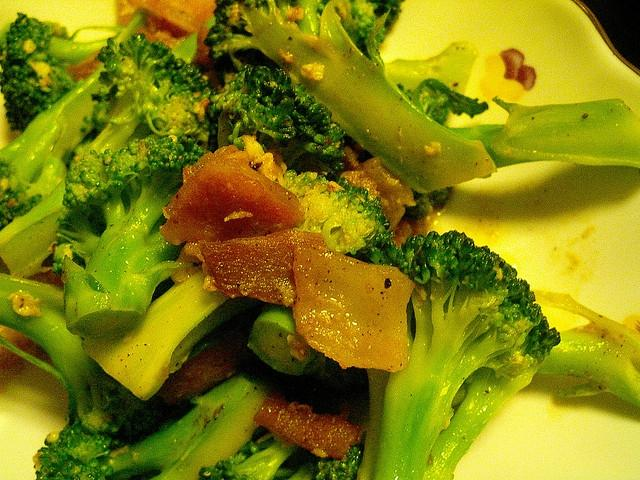broccoli: (204, 1, 640, 196), (83, 170, 394, 402), (357, 229, 561, 480), (0, 274, 192, 448), (55, 134, 204, 339), (34, 375, 272, 480), (77, 33, 215, 155), (210, 64, 346, 170), (532, 290, 640, 406), (0, 14, 107, 130), (0, 154, 67, 232), (198, 441, 300, 480)
carrot: (156, 329, 259, 410), (254, 392, 366, 460), (116, 0, 217, 67)
